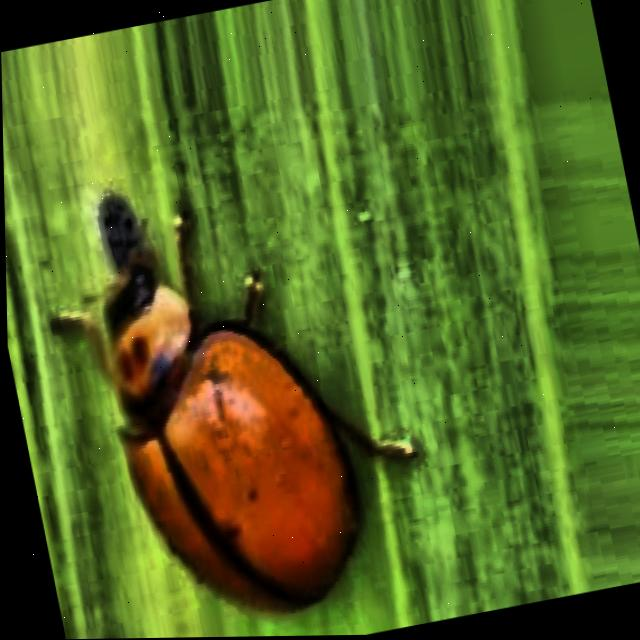Ladybug: (2, 117, 475, 640)
